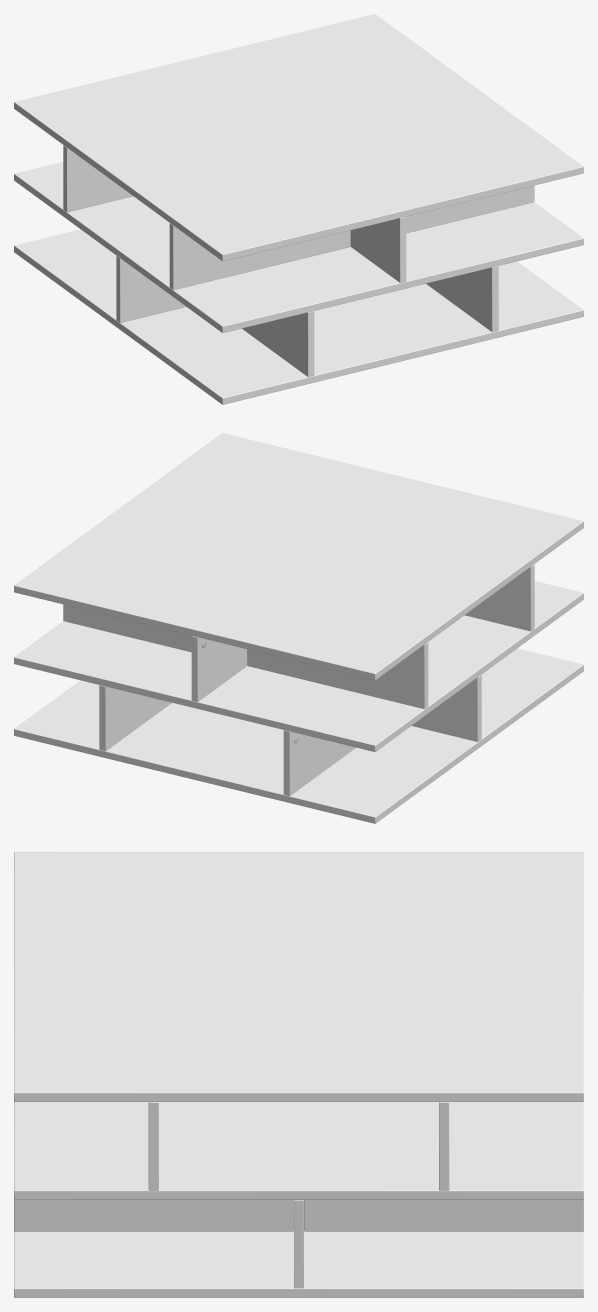
The model's file is abo-B07QWZBX6L.glb.
3 views of the same model, one above another, from view 1: azimuth 30°, elevation 25°; view 2: azimuth 150°, elevation 25°; view 3: azimuth 270°, elevation 25° (orthographic). The views are drawn at different scales.
Size of the model in its own units: 0.7 by 0.289 by 0.7.
1 material, 1 textured.
